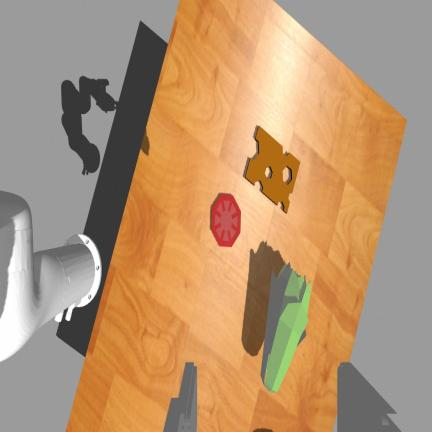cheese: (245, 126, 299, 212)
lettuce: (261, 263, 311, 392)
sliced_tomato: (212, 195, 240, 246)
